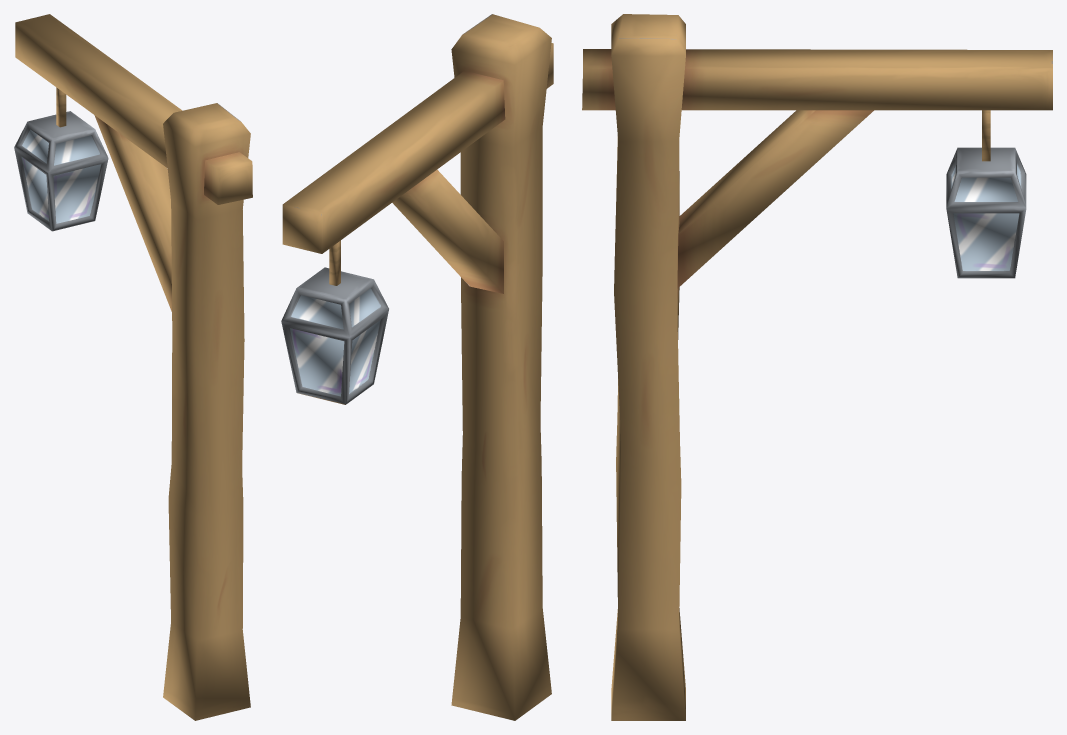
File: Lamp_Post.fbx
3 renders of one model, left to right at view 1: azimuth 30°, elevation 25°; view 2: azimuth 150°, elevation 25°; view 3: azimuth 270°, elevation 25°, orthographic. The views are drawn at different scales.
Parts seen in each view (by area): view 1: Cube; view 2: Cube; view 3: Cube.
Part boxes in pixels (left/top/right/bottom): Cube: left=14, top=14, right=252, bottom=720; Cube: left=281, top=14, right=553, bottom=720; Cube: left=582, top=14, right=1052, bottom=720.
Bounding box in the file's own units: 54.6 × 510 × 321.
